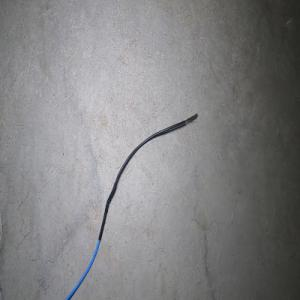Wire: (64, 111, 198, 300)
